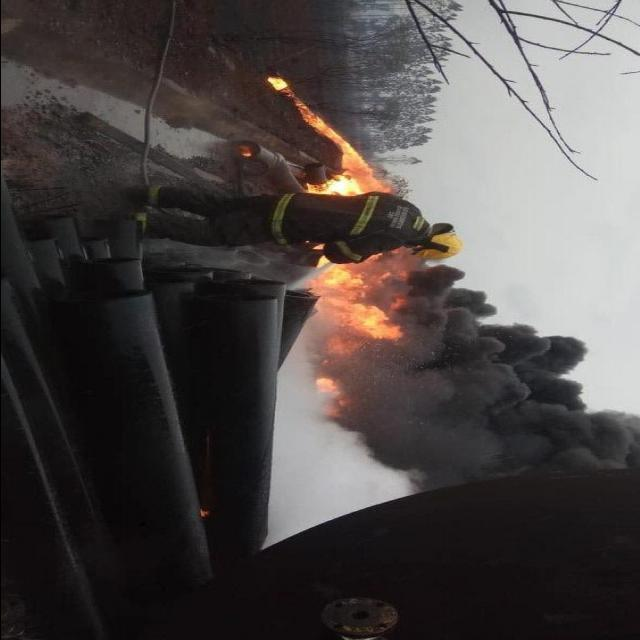Fire: (267, 75, 425, 347), (315, 378, 353, 426)
